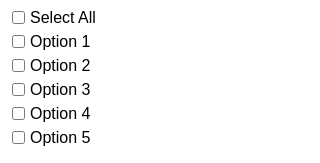
Test case: MultiCheck component › should check all options when Select All is clicked
Click the checkbox labelled "Select All". click: click(18, 18)
box: [12,11,25,24]
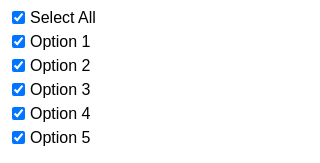
Check: the checkbox labelled "Option 1" is checked, box [12,35,25,48]
Check: the checkbox labelled "Option 2" is checked, box [12,59,25,72]
Check: the checkbox labelled "Option 3" is checked, box [12,83,25,96]
